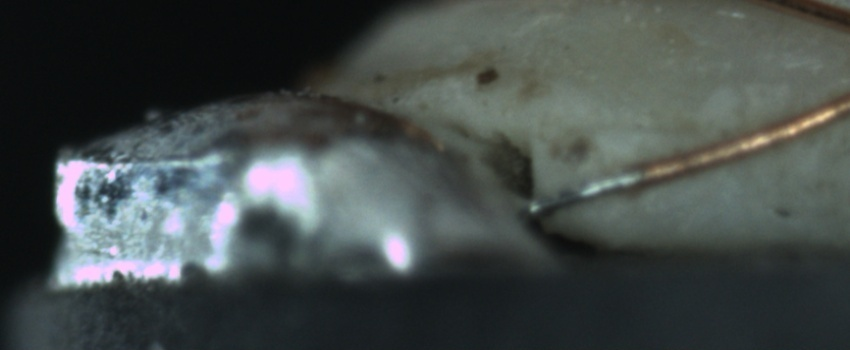DL: (577, 98, 712, 160)
TS: (525, 165, 642, 216)
